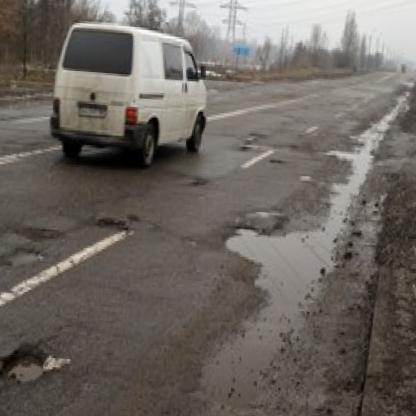pothole: (0, 338, 51, 385), (4, 245, 46, 273), (17, 225, 61, 244), (191, 179, 203, 187), (268, 158, 281, 163)
